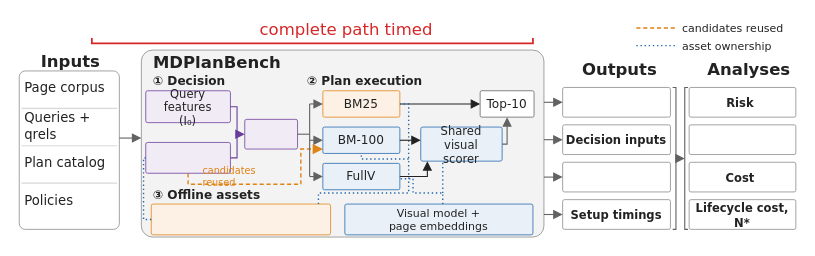
Some shapes in this 815 by 256 pixel diagram are drawn without their labels. Each missing label, with the centre of its shape:
"BM25 probe (I₁)" belongs at [187,157].
"Extracted text + BM25 index" belongs at [240,219].
"Rankings of all plans" belongs at [616,102].
"Router" belongs at [270,133].
"Step timings" belongs at [616,176].
"ΔC and oracle" belongs at [742,139].
